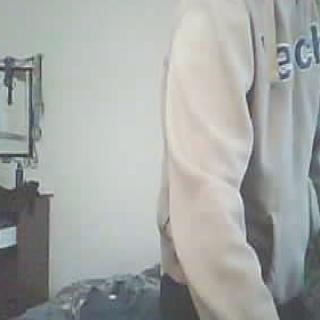Navy Sweatpants: (156, 288, 313, 320)
Yellow Hoodie: (165, 0, 320, 291)
